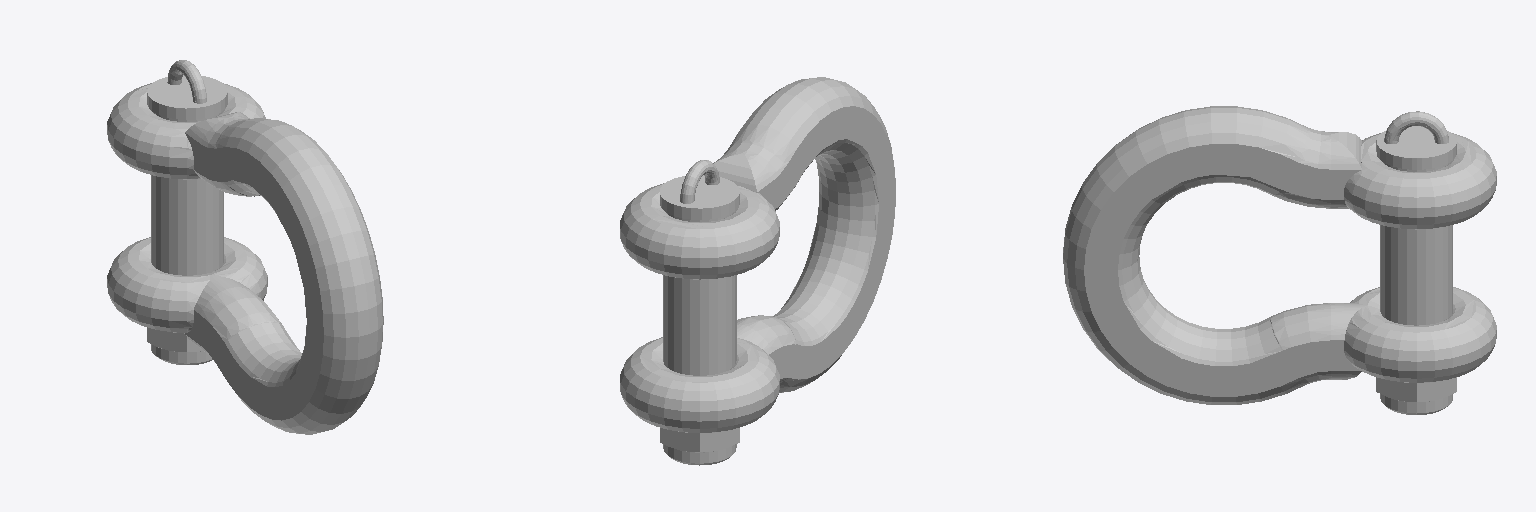
File: Crosby_anchor_shackle_generic200t.obj
The picture shows the model from 3 angles: view 1: azimuth 30°, elevation 25°; view 2: azimuth 150°, elevation 25°; view 3: azimuth 270°, elevation 25°; orthographic projection.
Bounding box in the file's own units: 0.2645 × 0.5297 × 0.7161.